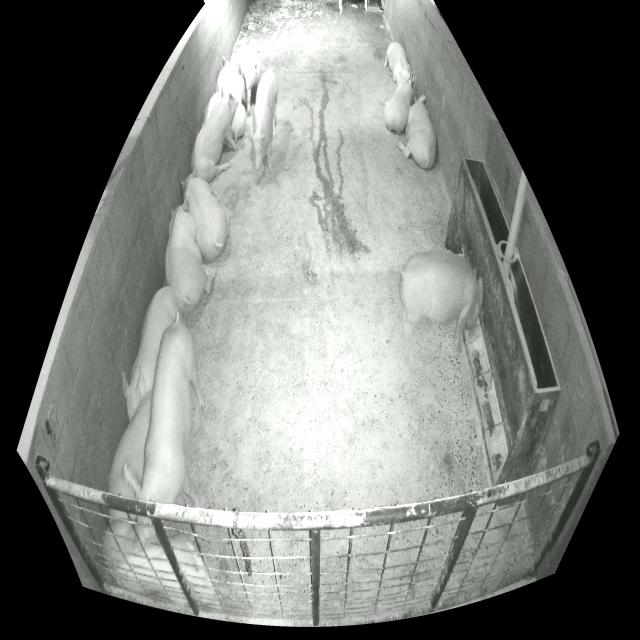pig: (124, 313, 205, 542), (103, 520, 220, 611), (400, 250, 483, 352), (122, 287, 182, 422), (108, 389, 152, 497), (190, 85, 238, 183), (165, 199, 206, 310), (181, 168, 228, 259), (244, 68, 278, 170), (397, 95, 436, 169), (216, 56, 246, 142), (237, 44, 262, 116), (385, 75, 415, 134), (384, 42, 414, 86), (201, 93, 220, 128)
